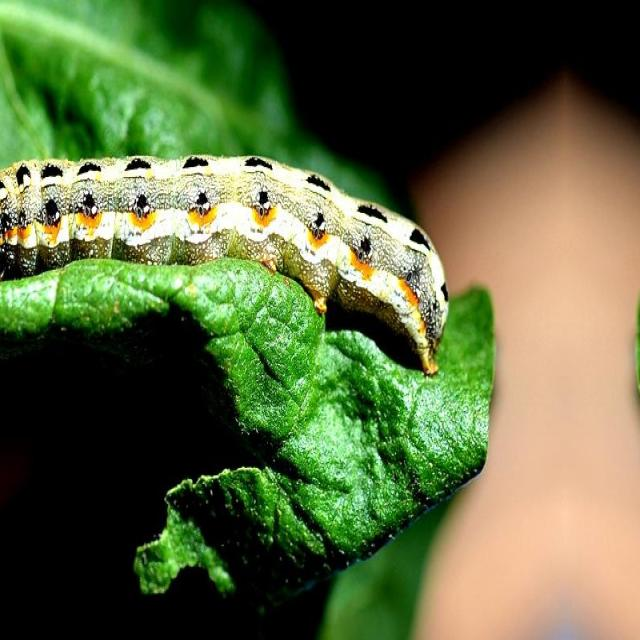Armyworm: (3, 99, 457, 397)
